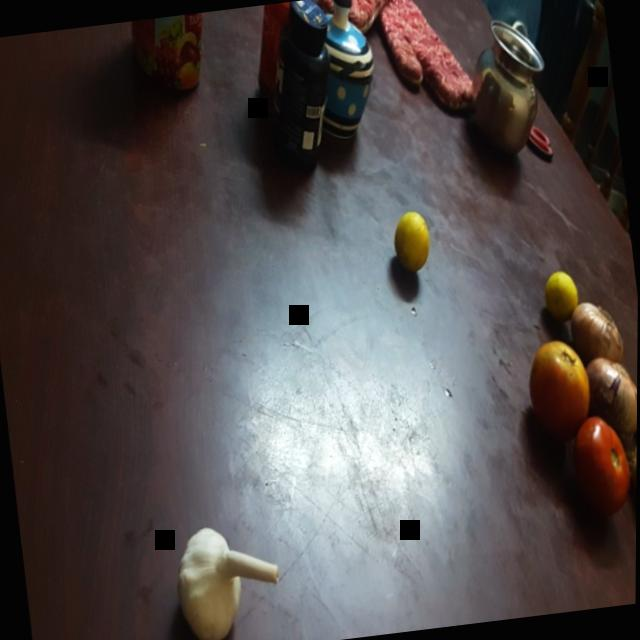garlic: (151, 504, 303, 640)
lemon: (384, 204, 438, 272), (538, 264, 587, 322)
onion: (570, 353, 638, 442), (560, 299, 629, 375)
potato: (621, 436, 637, 536), (626, 376, 638, 470)
tomato: (513, 333, 602, 434), (561, 408, 638, 514)
